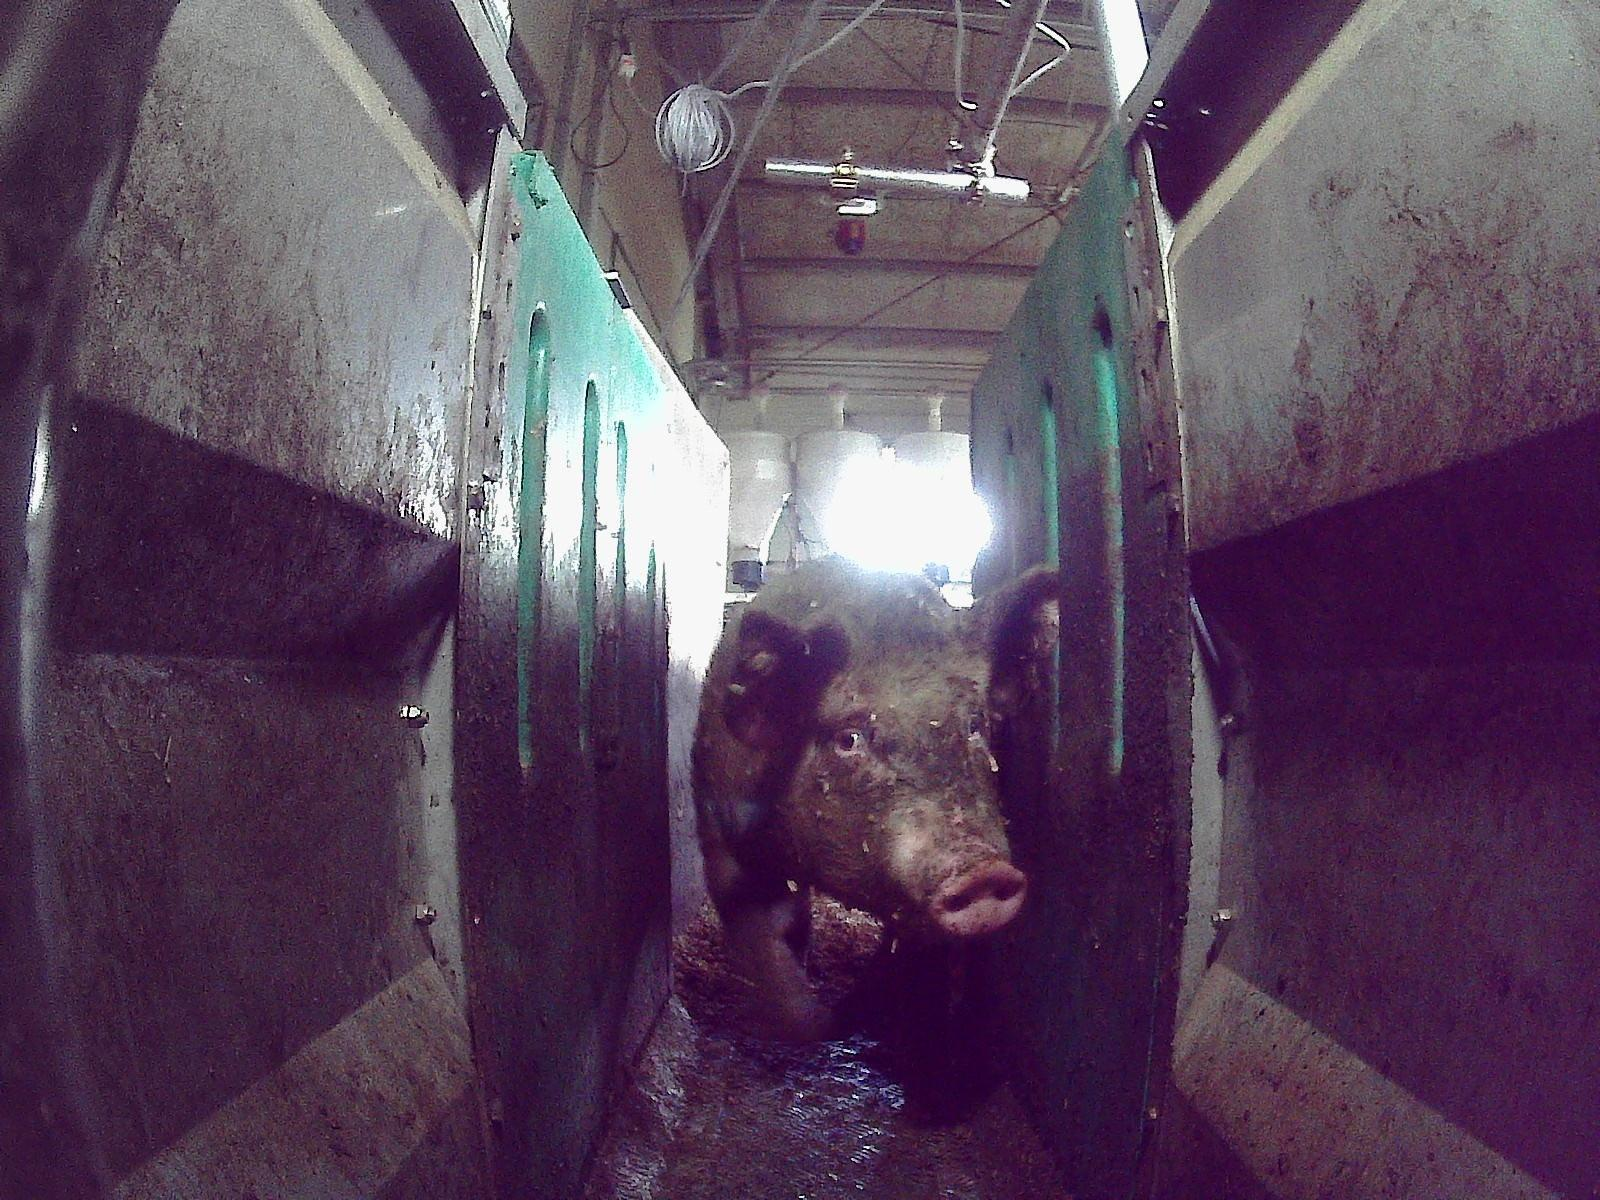Face: (784, 603, 1028, 940)
